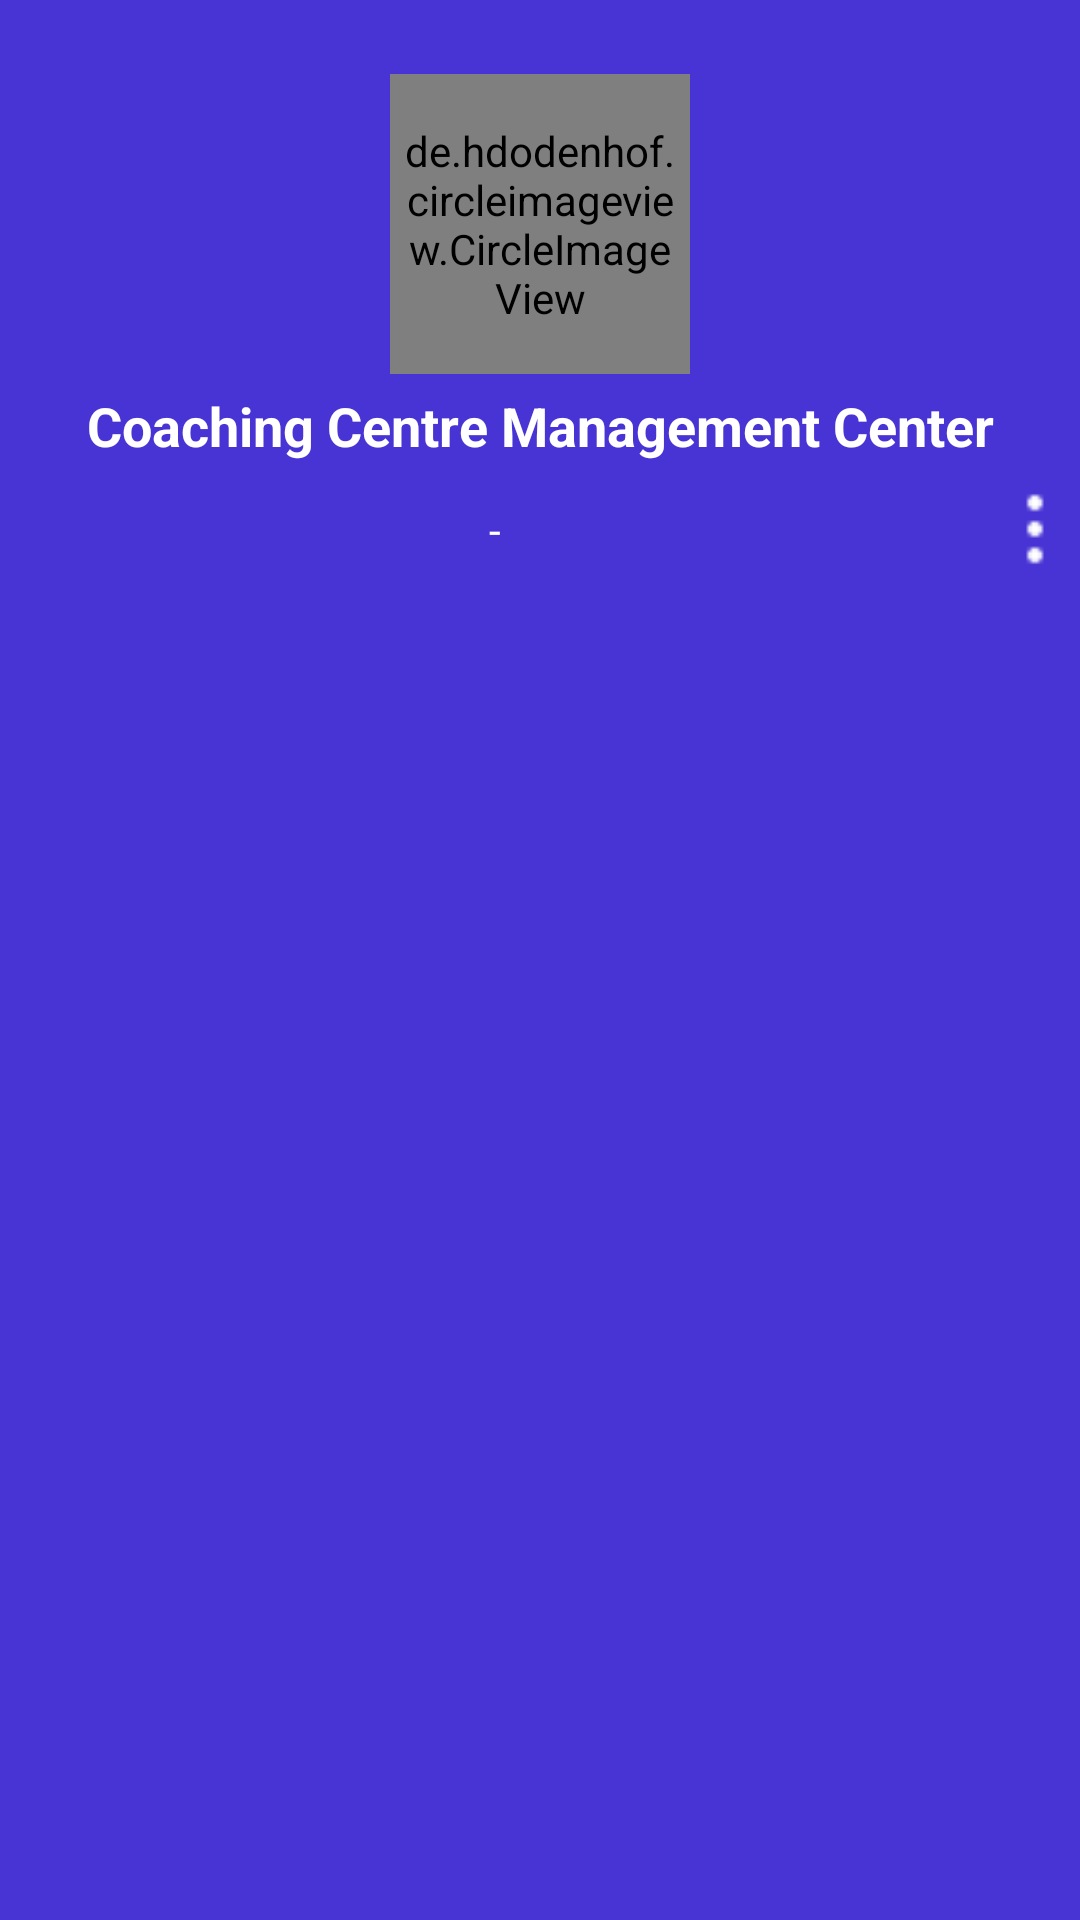

Where icons sit on this 1080w x 1920h app screen, as (x1, y1, x2, y2):
more: (1026, 494, 1044, 564)
